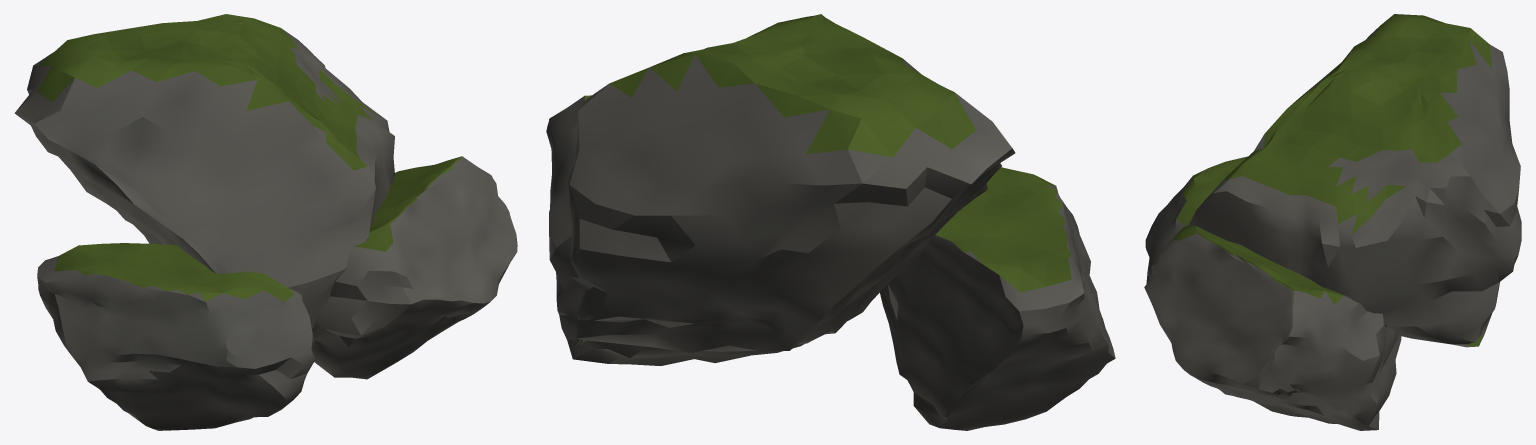
The model's file is cliff_a.glb.
The picture shows the model from 3 angles, left to right: view 1: azimuth 30°, elevation 25°; view 2: azimuth 150°, elevation 25°; view 3: azimuth 270°, elevation 25°; orthographic projection. The views are drawn at different scales.
Visible parts, largest first — view 1: LOD0; view 2: LOD0; view 3: LOD0.
Boxes of the visible parts, x1=… form: LOD0: x1=14, y1=14, x2=517, y2=430; LOD0: x1=546, y1=14, x2=1115, y2=430; LOD0: x1=1144, y1=14, x2=1521, y2=430.
Size of what is drawn, in the model's own units: 7.35 by 5.06 by 5.7.
